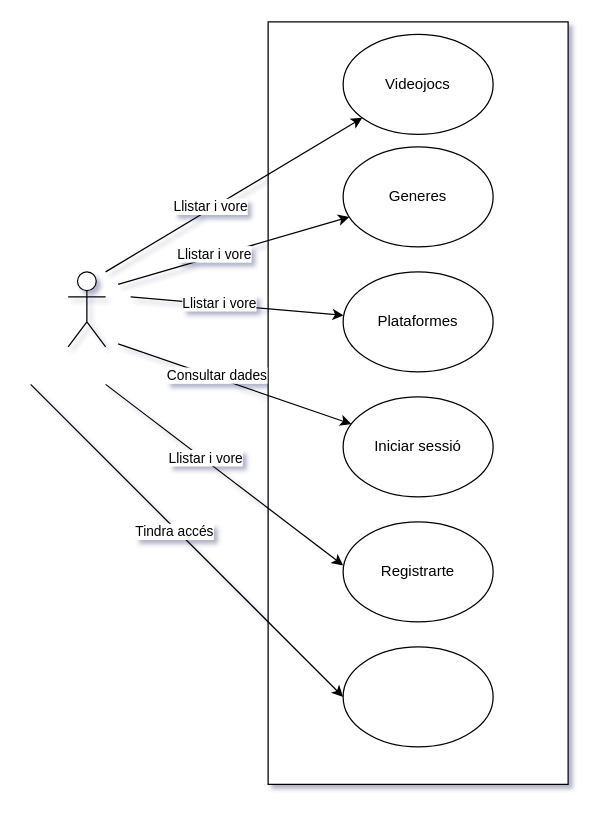
Image size: 598x814. Some labels were removed from this diagram. Each missing label, with the box of its shape:
Formularis de filtratge: (342, 646, 493, 747)
Usuari Anonim: (67, 271, 106, 347)
